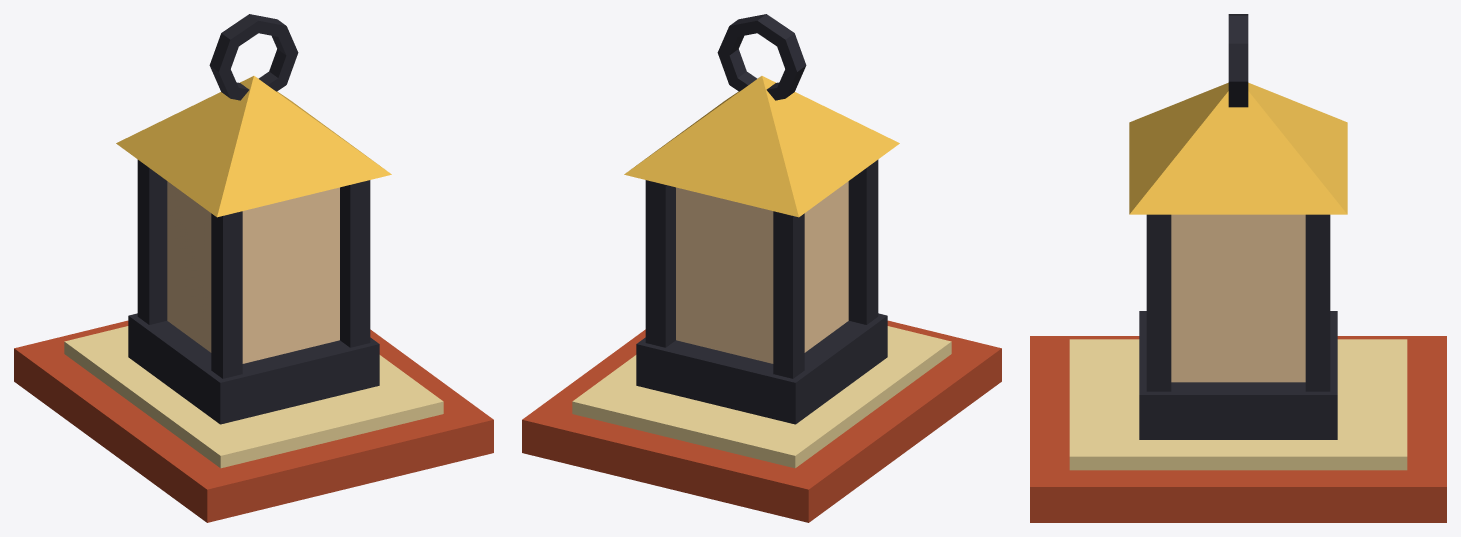
Rendered from CatCafe_Accessory_TinyLantern.glb.
3 renders of one model, left to right at view 1: azimuth 30°, elevation 25°; view 2: azimuth 150°, elevation 25°; view 3: azimuth 270°, elevation 25°, orthographic. The views are drawn at different scales.
Visible parts, largest first — view 1: CatCafe_Accessory_TinyLantern; view 2: CatCafe_Accessory_TinyLantern; view 3: CatCafe_Accessory_TinyLantern.
Part boxes in pixels (x1,y1,x2,y2): CatCafe_Accessory_TinyLantern: [14, 14, 493, 522]; CatCafe_Accessory_TinyLantern: [522, 14, 1001, 522]; CatCafe_Accessory_TinyLantern: [1030, 14, 1446, 522].
Size of the model in its own units: 0.36 by 0.48 by 0.42.
Materials: 1 (1 with a texture image).
